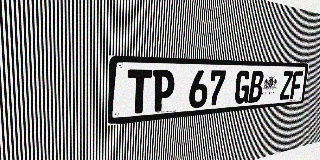6: (188, 70, 209, 109)
7: (207, 70, 226, 107)
B: (248, 71, 264, 103)
F: (290, 71, 303, 99)
G: (234, 70, 251, 104)
P: (151, 70, 175, 112)
T: (126, 69, 152, 114)
Z: (279, 71, 293, 100)
